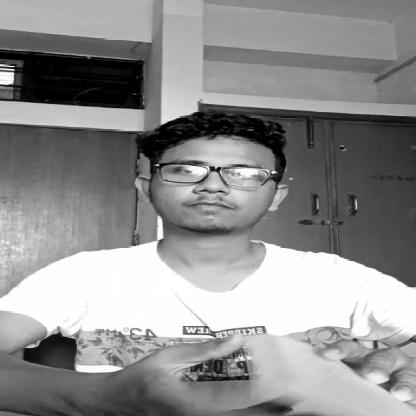Normal: (108, 118, 289, 233)
